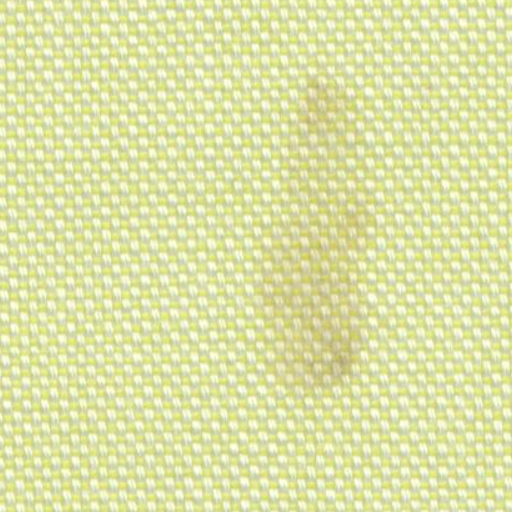WuZi: (244, 63, 386, 395)
